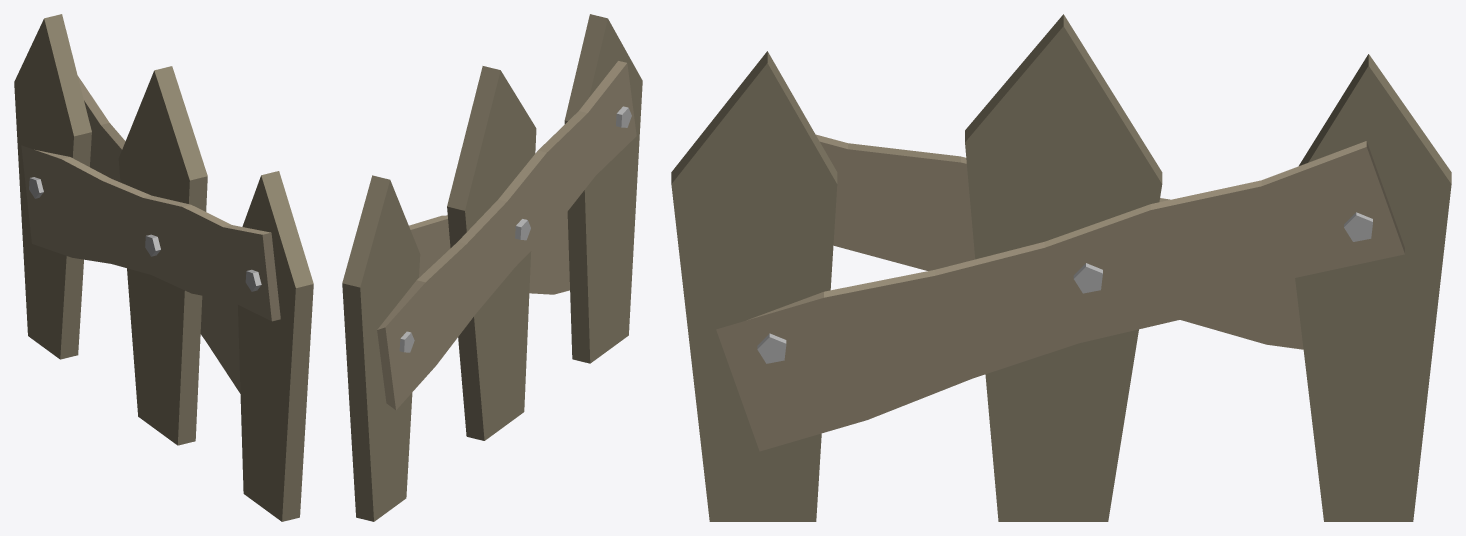
Rendered from Fence2.fbx.
The picture shows the model from 3 angles, left to right: view 1: azimuth 30°, elevation 25°; view 2: azimuth 150°, elevation 25°; view 3: azimuth 270°, elevation 25°; orthographic projection. The views are drawn at different scales.
Parts seen in each view (by area): view 1: Fence_v2; view 2: Fence_v2; view 3: Fence_v2.
Boxes of the visible parts, box(x1,y1,x2,y2) form: Fence_v2: box(14, 14, 313, 521); Fence_v2: box(342, 14, 642, 521); Fence_v2: box(671, 14, 1451, 521).
Bounding box in the file's own units: 0.5228 × 3.81 × 5.44.
